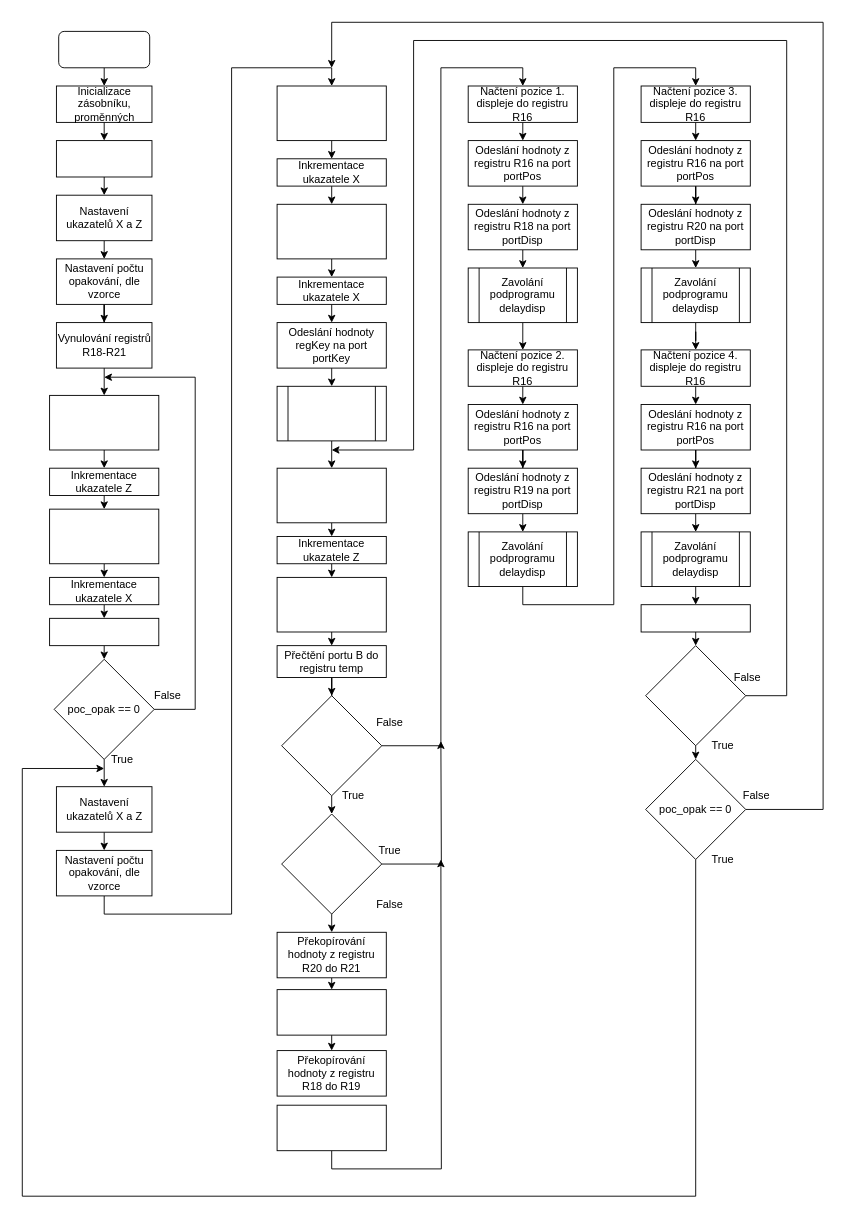
The diagram is 846 pixels wide and 1219 high, and some of its shapes have lost their labels. The box of each missing label's shape, as (x1, y1, x2, y2) in pixels:
Dekrementace poc_key: (640, 604, 750, 632)
Dekrementace počtu opakování: (49, 617, 159, 646)
Nastavení portů: (56, 140, 152, 177)
Načtení hodnoty z datové paměti do registru poc_key: (276, 203, 386, 259)
Načtení hodnoty z datové paměti do registru regKey: (276, 85, 386, 141)
Načtení hodnoty z paměti programu do registru regDisp: (276, 576, 386, 632)
Načtení hodnoty z paměti programu do registru regKey: (276, 467, 386, 523)
Načtení hodnoty z paměti programu do registru temp: (49, 394, 159, 450)
poc_key == 0: (645, 645, 746, 746)
Překopírování hodnoty z registru R19 do R20: (276, 989, 386, 1035)
Překopírování hodnoty z registru regDisp do R18: (276, 1104, 386, 1151)
Překopírování hodnoty z temp do datové paměti: (49, 508, 159, 564)
R18 == regDisp: (281, 813, 382, 914)
START: (58, 30, 150, 68)
temp == regKey: (281, 695, 382, 796)
Zavolání podprogramu delay: (276, 385, 386, 441)
